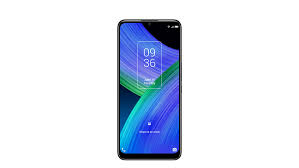phone: (116, 18, 184, 161)
